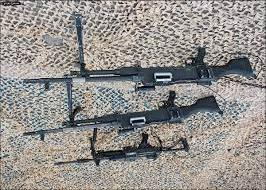larga: (23, 16, 254, 92), (23, 90, 223, 143), (54, 137, 191, 167)
